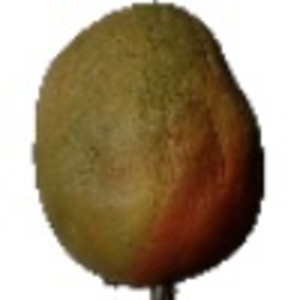mamão: (27, 3, 271, 289)
